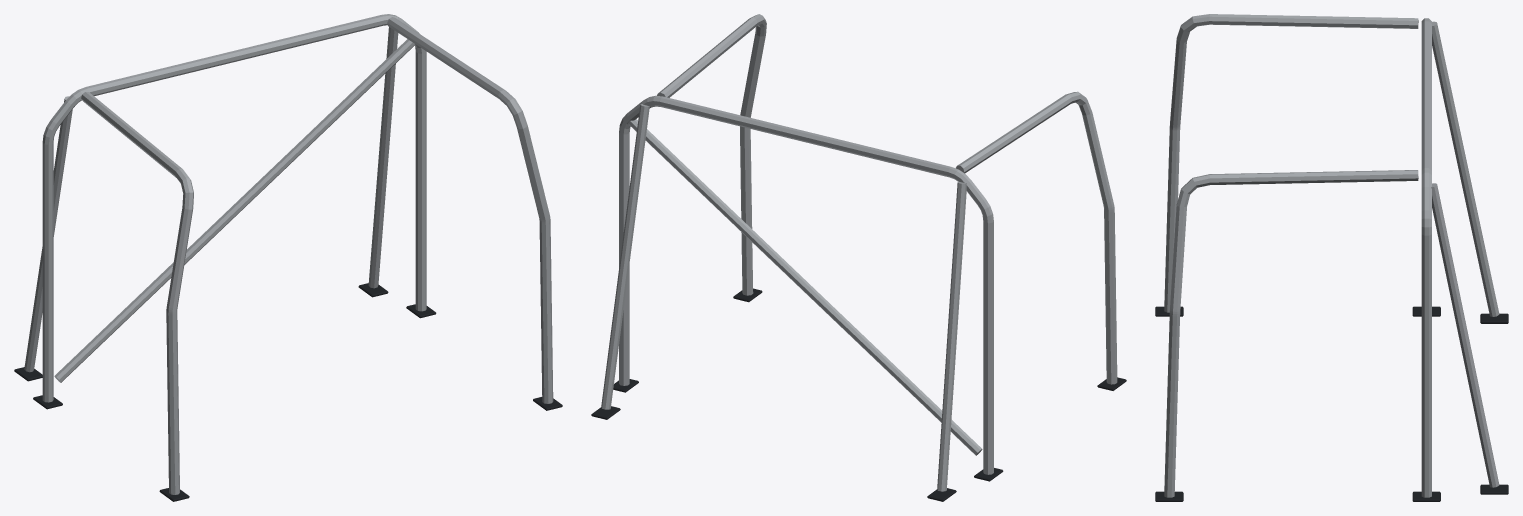
The model's file is vortex_r.glb.
3 views of the same model, side by side, from view 1: azimuth 30°, elevation 25°; view 2: azimuth 150°, elevation 25°; view 3: azimuth 270°, elevation 25° (orthographic). The views are drawn at different scales.
Visible parts, largest first — view 1: model; view 2: model; view 3: model.
Part boxes in pixels (left/top/right/bottom): model: left=14, top=14, right=562, bottom=501; model: left=591, top=14, right=1126, bottom=501; model: left=1155, top=14, right=1508, bottom=501.
Bounding box in the file's own units: 1.62 × 1.21 × 1.25.
Materials: 2 (1 with a texture image).
